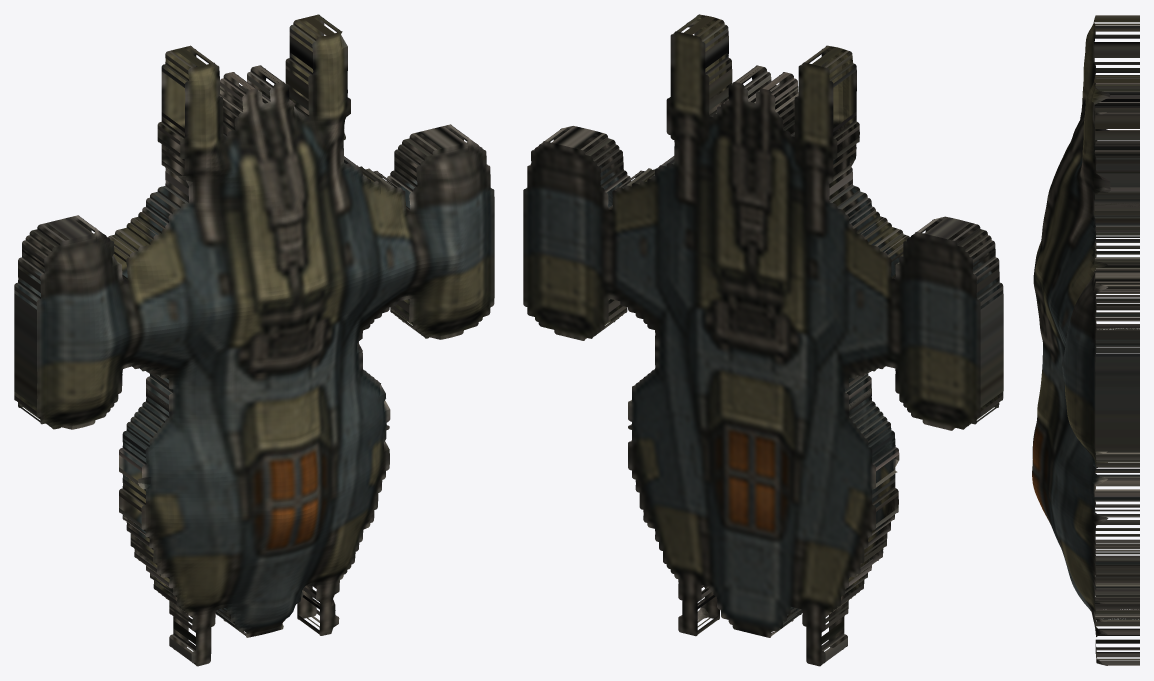
Rendered from authority_generated_mesh.obj.
The picture shows the model from 3 angles, left to right: view 1: azimuth 30°, elevation 25°; view 2: azimuth 150°, elevation 25°; view 3: azimuth 270°, elevation 25°; orthographic projection. The views are drawn at different scales.
Parts seen in each view (by area): view 1: authority_generated_craft; view 2: authority_generated_craft; view 3: authority_generated_craft.
Part boxes in pixels (x1,y1,x2,y2): authority_generated_craft: (14,14,494,666); authority_generated_craft: (523,14,1003,666); authority_generated_craft: (1032,15,1139,665).
Size of the model in its own units: 4.06 by 5.09 by 0.8543.
Materials: 1 (1 with a texture image).
